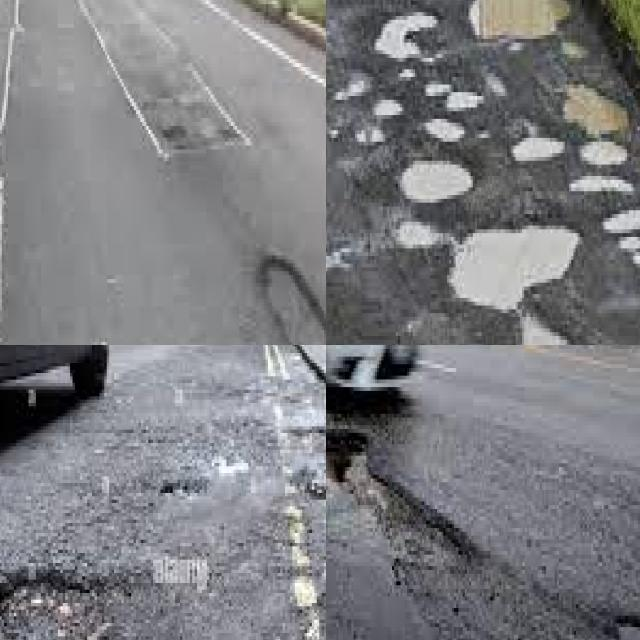Pothole: (326, 431, 418, 566), (451, 229, 582, 309), (256, 252, 326, 345), (469, 0, 571, 39), (400, 161, 473, 206), (567, 88, 629, 134), (601, 199, 640, 229)
